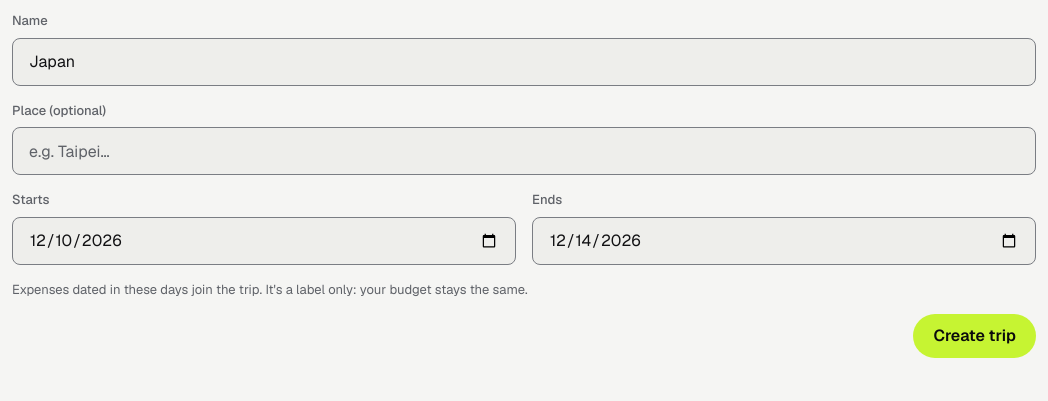
TripForm › shows a refusal from the server (an overlap) on the dates
Click the button "Create trip".
click(975, 336)  # box [914,314,1036,358]
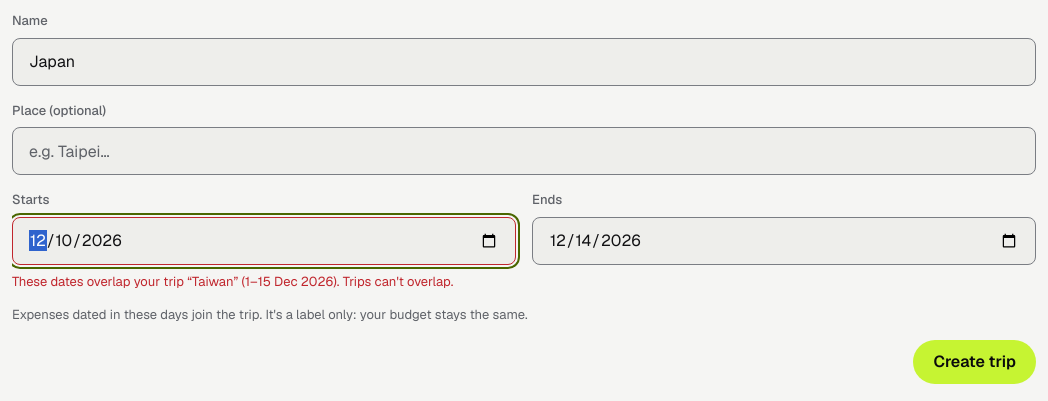
Result: the text "These dates overlap your trip “Taiwan” (1–15 Dec 2026). Trips can't overlap." is shown at [12,273,516,290]
